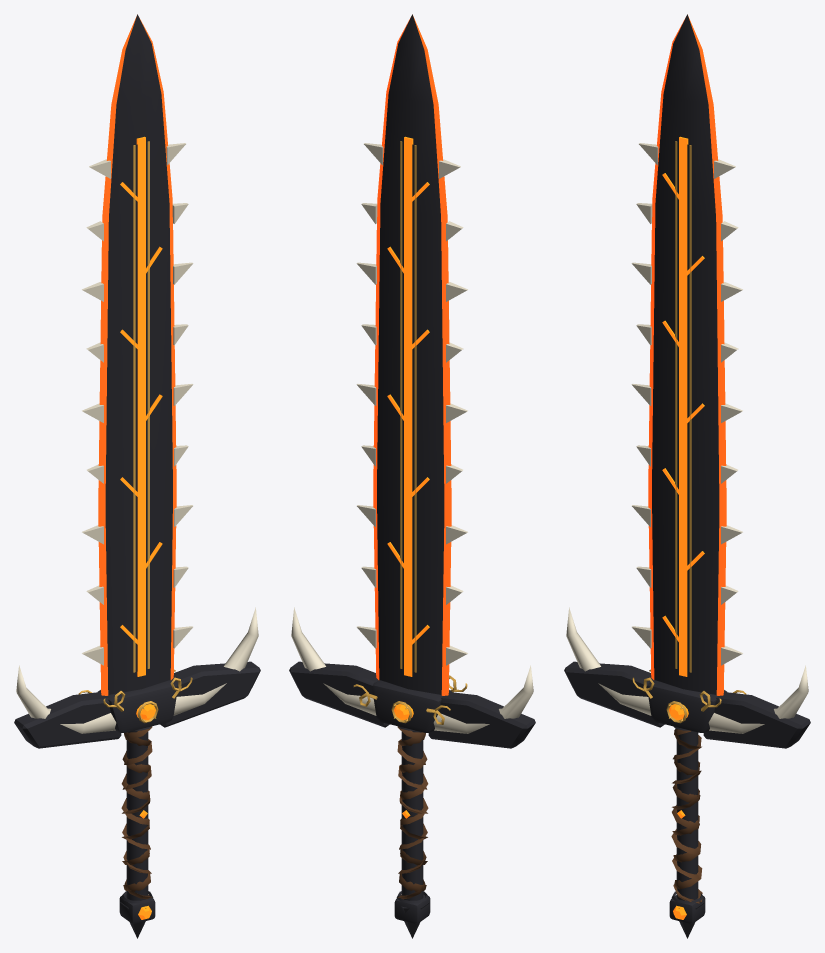
File: dragonfang_greatsword.glb
The picture shows the model from 3 angles, left to right: view 1: azimuth 30°, elevation 25°; view 2: azimuth 150°, elevation 25°; view 3: azimuth 330°, elevation 25°; orthographic projection.
Parts seen in each view (by area): view 1: dragonfang_greatsword; view 2: dragonfang_greatsword; view 3: dragonfang_greatsword.
Part boxes in pixels (x1,y1,x2,y2): dragonfang_greatsword: (14,14,260,938); dragonfang_greatsword: (289,14,535,938); dragonfang_greatsword: (564,14,810,938).
Bounding box in the file's own units: 0.4788 × 1.75 × 0.0896.
